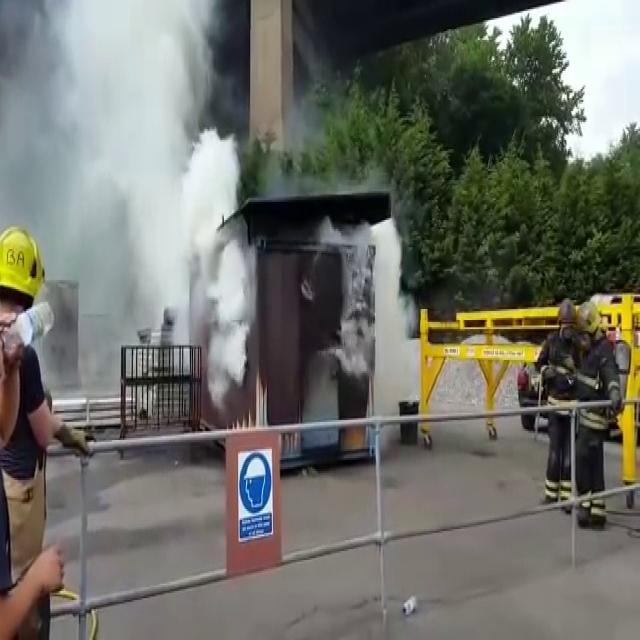Smoke: (83, 0, 276, 385), (363, 210, 411, 424)
